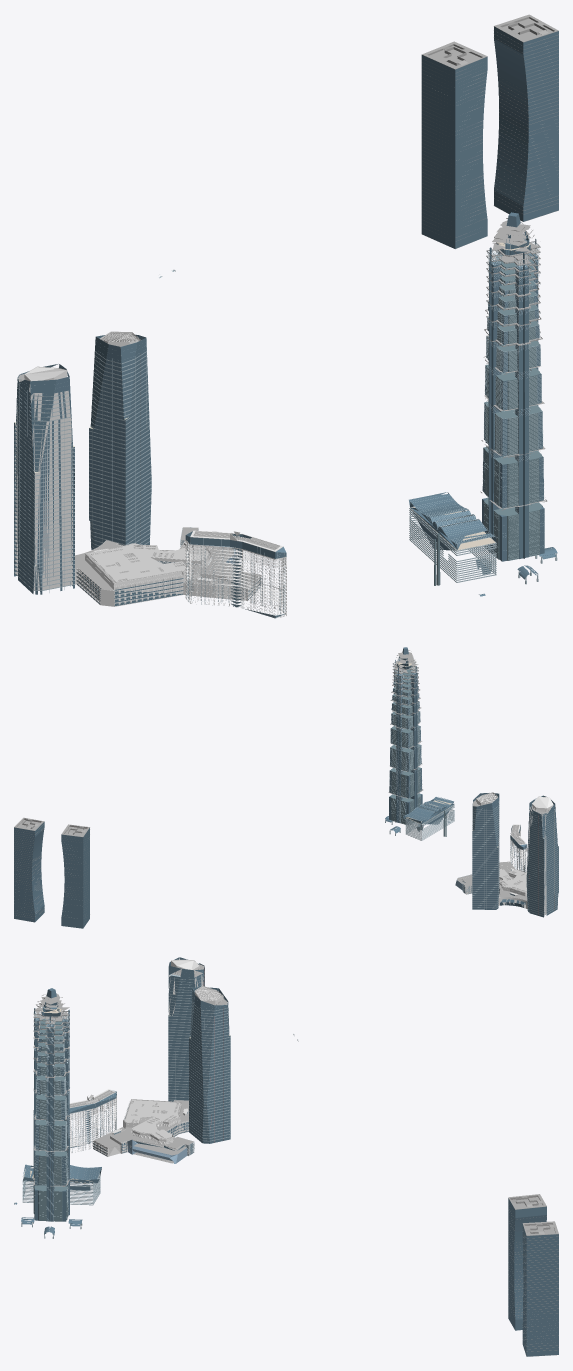
Rendered from lujiazui-4.glb.
The picture shows the model from 3 angles, top to bottom: view 1: azimuth 30°, elevation 25°; view 2: azimuth 150°, elevation 25°; view 3: azimuth 270°, elevation 25°; orthographic projection. The views are drawn at different scales.
Parts seen in each view (by area): view 1: source_2890_Mat3d66-1303573-2170-3213_part0, source_2877_Mat3d66-1303573-2170-3213_part0, source_2870_Mat3d66-1303573-2172-6161_part0, source_2867_Mat3d66-1303573-2171-3238_part0, source_2883_Mat3d66-1303573-263-9863_part0, source_2873_Mat3d66-1303573-2119-613_part0, source_2874_Mat3d66-1303573-2153-4388_part0, source_2868_Mat3d66-1303573-2110-2540_part0, source_2878_Mat3d66-1303573-2153-4388_part0, source_2891_Mat3d66-1303573-2048-6564_part0, source_2871_Mat3d66-1303573-2153-4388_part0, source_2885_Mat3d66-1303573-2050-6500_part0 (+5 smaller); view 2: source_2877_Mat3d66-1303573-2170-3213_part0, source_2890_Mat3d66-1303573-2170-3213_part0, source_2870_Mat3d66-1303573-2172-6161_part0, source_2873_Mat3d66-1303573-2119-613_part0, source_2867_Mat3d66-1303573-2171-3238_part0, source_2868_Mat3d66-1303573-2110-2540_part0, source_2883_Mat3d66-1303573-263-9863_part0, source_2891_Mat3d66-1303573-2048-6564_part0, source_2871_Mat3d66-1303573-2153-4388_part0, source_2878_Mat3d66-1303573-2153-4388_part0, source_2872_Mat3d66-1303573-2119-613_part0, source_2875_Mat3d66-1303573-2119-613_part1 (+2 smaller); view 3: source_2877_Mat3d66-1303573-2170-3213_part0, source_2890_Mat3d66-1303573-2170-3213_part0, source_2870_Mat3d66-1303573-2172-6161_part0, source_2873_Mat3d66-1303573-2119-613_part0, source_2867_Mat3d66-1303573-2171-3238_part0, source_2883_Mat3d66-1303573-263-9863_part0, source_2878_Mat3d66-1303573-2153-4388_part0, source_2868_Mat3d66-1303573-2110-2540_part0, source_2891_Mat3d66-1303573-2048-6564_part0, source_2885_Mat3d66-1303573-2050-6500_part0, source_2871_Mat3d66-1303573-2153-4388_part0, source_2872_Mat3d66-1303573-2119-613_part0 (+2 smaller).
Part boxes in pixels (x1,y1,x2,y2): source_2890_Mat3d66-1303573-2170-3213_part0: (421,26,558,248); source_2877_Mat3d66-1303573-2170-3213_part0: (14,334,286,618); source_2870_Mat3d66-1303573-2172-6161_part0: (409,212,557,596); source_2867_Mat3d66-1303573-2171-3238_part0: (434,254,542,585); source_2883_Mat3d66-1303573-263-9863_part0: (24,331,286,617); source_2873_Mat3d66-1303573-2119-613_part0: (14,351,198,590); source_2874_Mat3d66-1303573-2153-4388_part0: (15,374,258,590); source_2868_Mat3d66-1303573-2110-2540_part0: (409,276,543,560); source_2878_Mat3d66-1303573-2153-4388_part0: (75,527,279,602); source_2891_Mat3d66-1303573-2048-6564_part0: (422,14,558,248); source_2871_Mat3d66-1303573-2153-4388_part0: (480,218,547,510); source_2885_Mat3d66-1303573-2050-6500_part0: (89,541,208,581); source_2877_Mat3d66-1303573-2170-3213_part0: (462,793,558,917); source_2890_Mat3d66-1303573-2170-3213_part0: (14,822,89,928); source_2870_Mat3d66-1303573-2172-6161_part0: (385,647,454,833); source_2873_Mat3d66-1303573-2119-613_part0: (462,803,558,915); source_2867_Mat3d66-1303573-2171-3238_part0: (390,669,446,836); source_2868_Mat3d66-1303573-2110-2540_part0: (389,681,453,824); source_2883_Mat3d66-1303573-263-9863_part0: (462,792,553,908); source_2891_Mat3d66-1303573-2048-6564_part0: (14,817,89,922); source_2871_Mat3d66-1303573-2153-4388_part0: (388,650,422,798); source_2878_Mat3d66-1303573-2153-4388_part0: (457,825,527,908); source_2872_Mat3d66-1303573-2119-613_part0: (405,805,454,840); source_2875_Mat3d66-1303573-2119-613_part1: (463,793,555,911); source_2877_Mat3d66-1303573-2170-3213_part0: (69,957,230,1155); source_2890_Mat3d66-1303573-2170-3213_part0: (508,1198,558,1356); source_2870_Mat3d66-1303573-2172-6161_part0: (14,988,101,1235); source_2873_Mat3d66-1303573-2119-613_part0: (168,971,230,1155); source_2867_Mat3d66-1303573-2171-3238_part0: (34,1016,67,1221); source_2883_Mat3d66-1303573-263-9863_part0: (69,959,223,1156); source_2878_Mat3d66-1303573-2153-4388_part0: (69,1090,193,1163); source_2868_Mat3d66-1303573-2110-2540_part0: (23,1032,100,1220); source_2891_Mat3d66-1303573-2048-6564_part0: (508,1194,558,1356); source_2885_Mat3d66-1303573-2050-6500_part0: (124,1100,180,1138); source_2871_Mat3d66-1303573-2153-4388_part0: (33,993,69,1186); source_2872_Mat3d66-1303573-2119-613_part0: (22,1173,100,1205).
Size of the model in its own units: 928 by 396 by 826.
